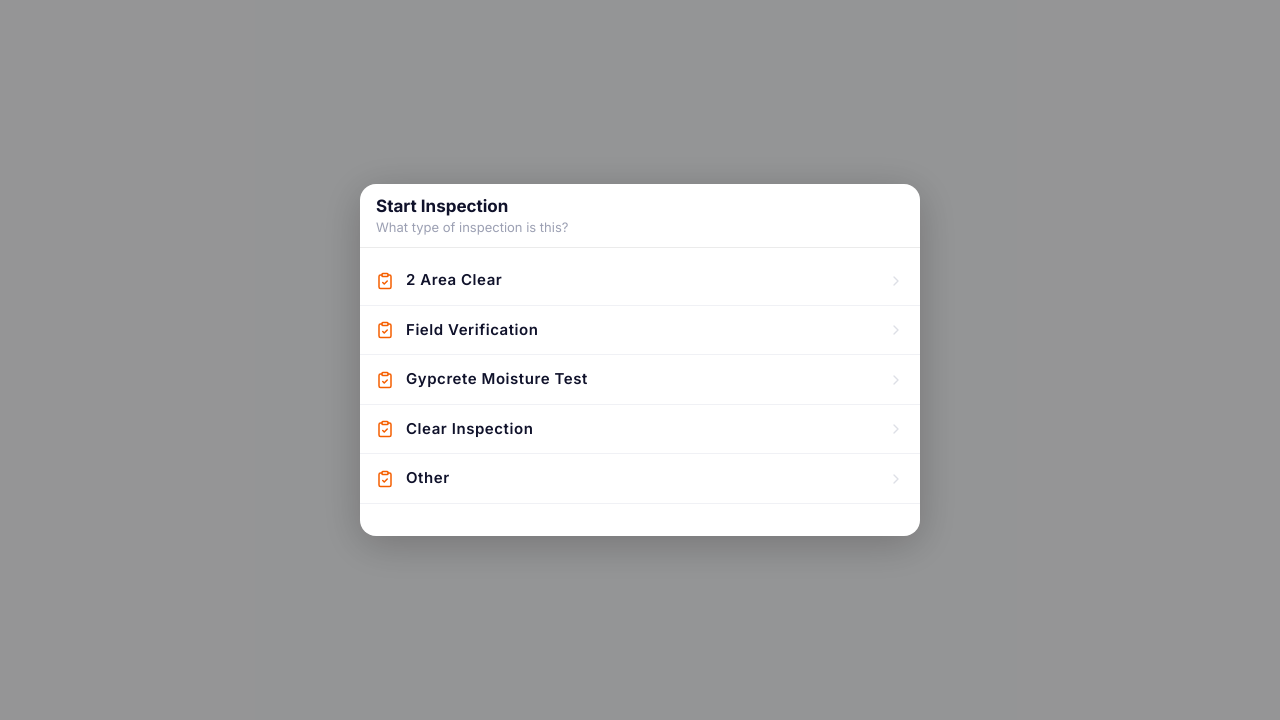
StartInspectionSheet › shows Gypcrete and skips scope step when unit has flooring
The width and height of the screenshot is (1280, 720).
Expected: the text "Gypcrete Moisture Test" is shown, [406,369,588,388]
Click the button "Gypcrete Moisture Test" at (497, 379), box [360,355,920,405]
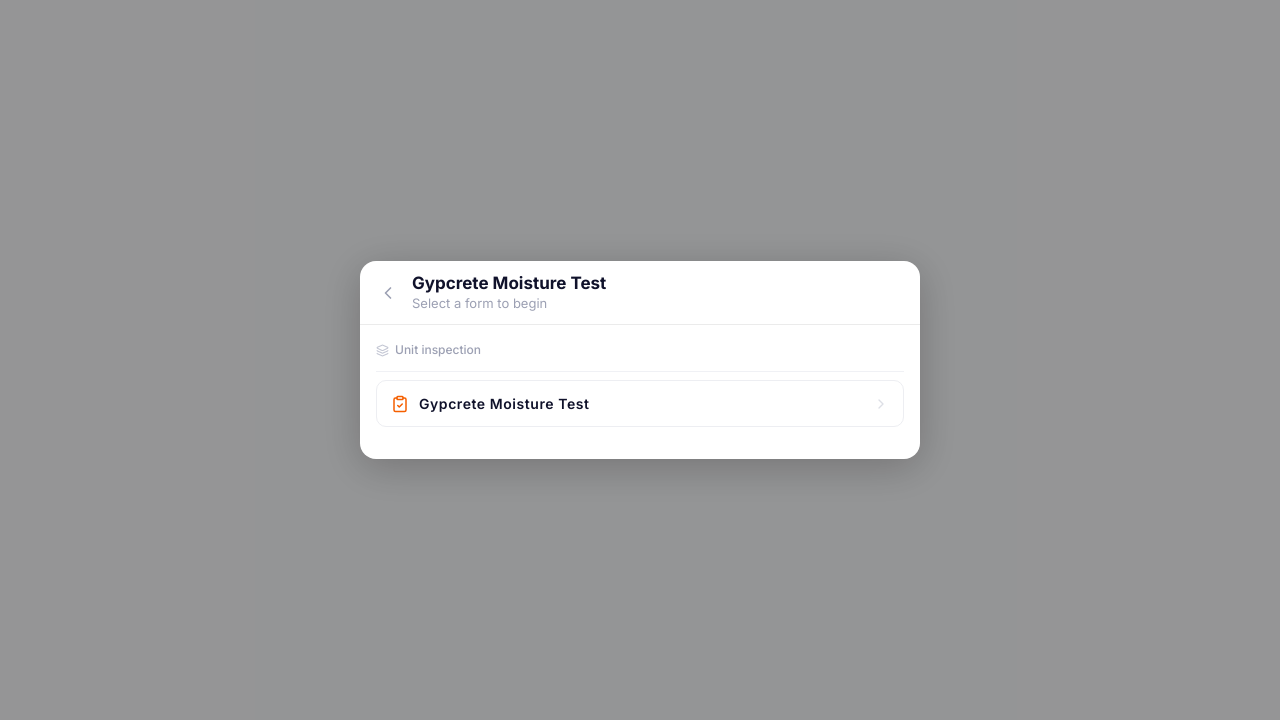
Result: the text "Unit inspection" is shown at [395,341,481,359]
